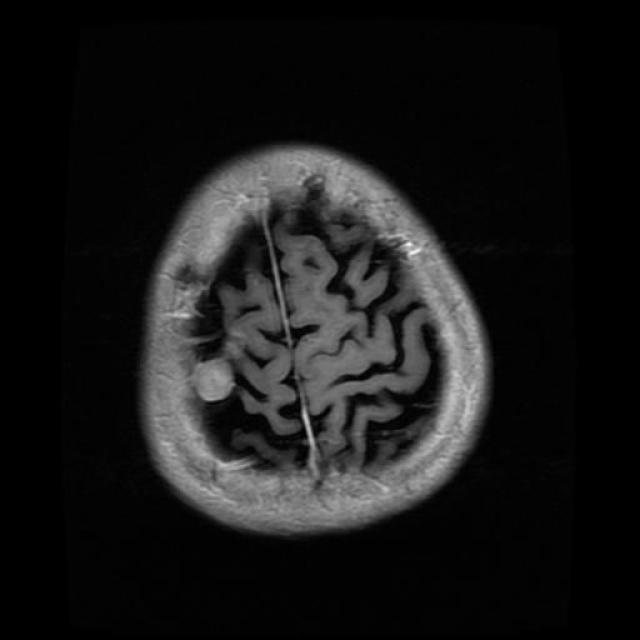meningioma: (190, 359, 235, 404)
